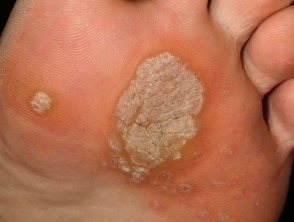Warts: (108, 28, 207, 195), (22, 79, 60, 123)
